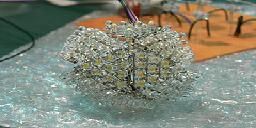LED: (62, 20, 200, 114)
